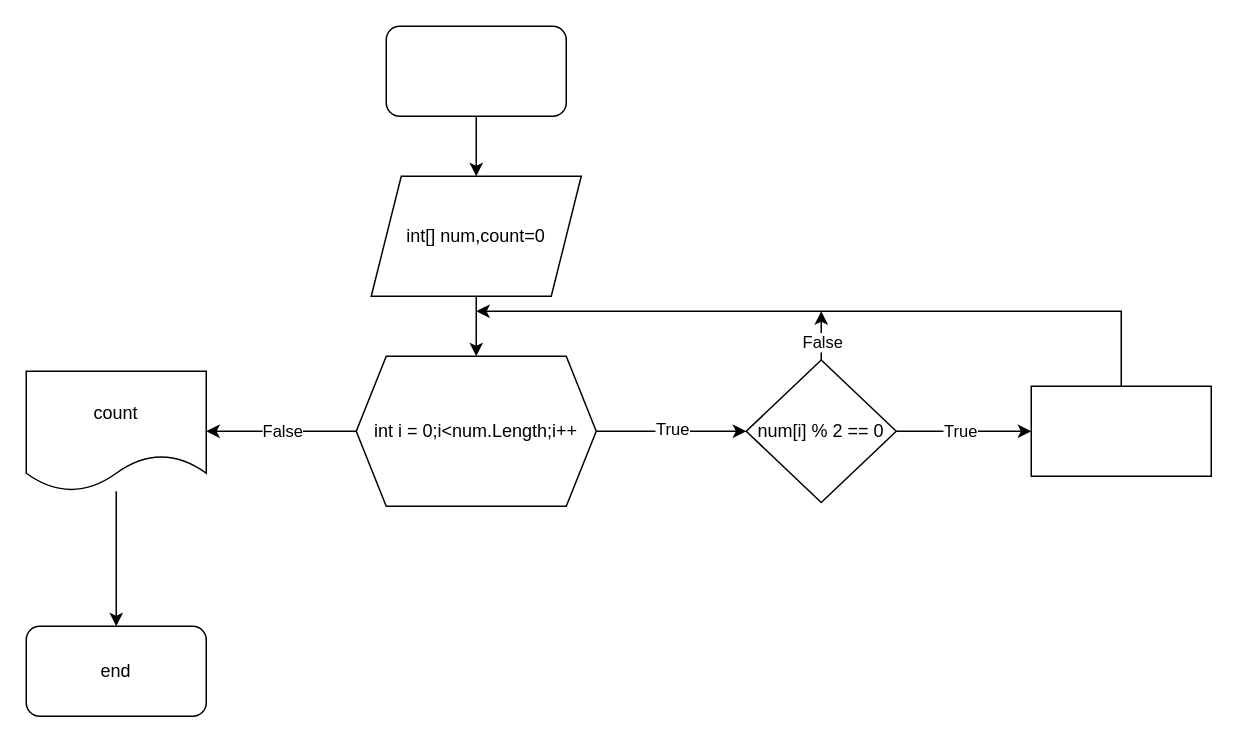
Image size: 1238x743. Some labels were removed from this diagram. Here are the shapes that lost their labels. From the top down, the box of each, then its label:
(385, 25, 566, 116): start
(1030, 385, 1211, 476): count++
